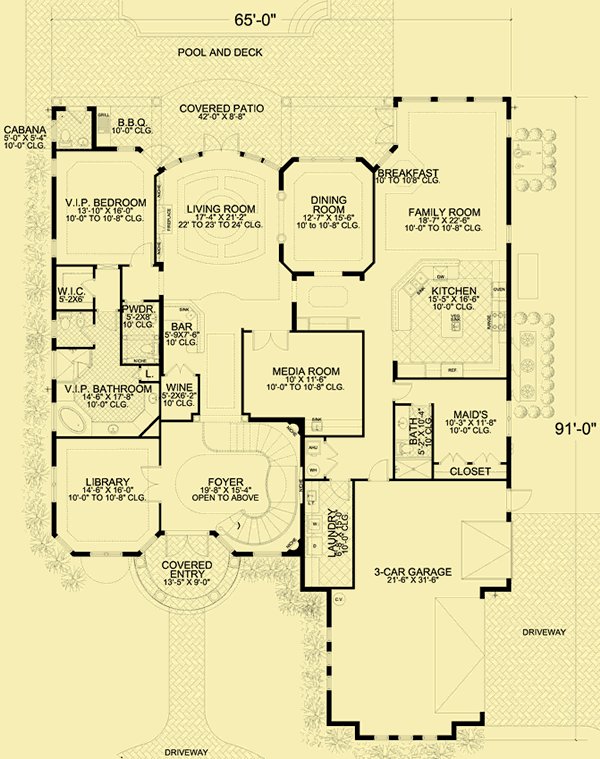door: (372, 108, 395, 146), (203, 130, 240, 153), (141, 140, 173, 166), (139, 464, 160, 503), (126, 237, 153, 266), (508, 486, 537, 512), (322, 441, 341, 475), (366, 456, 392, 478), (332, 478, 351, 503), (390, 381, 413, 401)
large_sink: (53, 124, 73, 148)
small_sink: (90, 421, 135, 436)
stairs: (204, 420, 296, 545)
windows: (366, 732, 441, 745), (399, 94, 504, 103), (295, 152, 363, 164), (324, 627, 334, 695), (49, 462, 59, 505), (87, 552, 129, 559)
